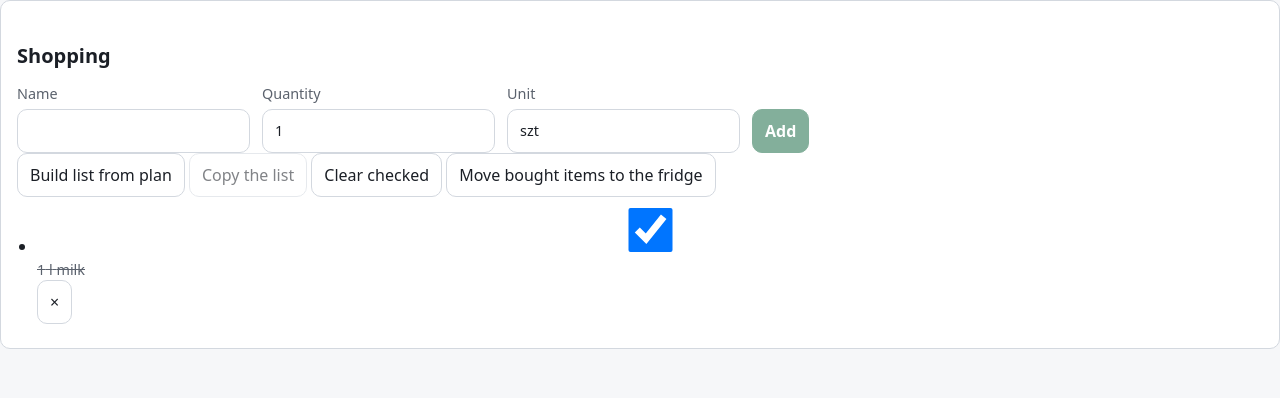
ShoppingView › alerts when moving fails
Click the button "Move bought items to the fridge": (581, 175) [446,153,716,197]
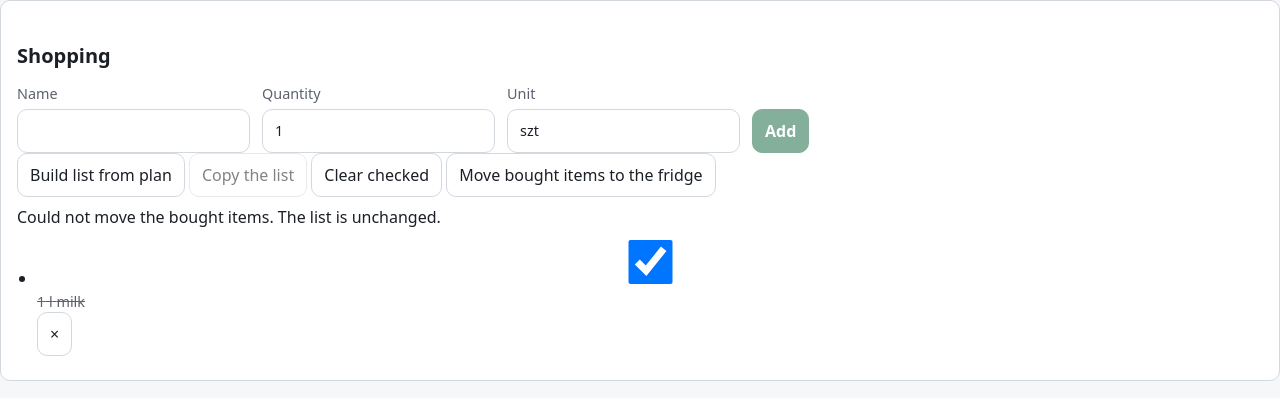
Check: the text "1 l milk" is shown, box [37,237,1263,312]
Check: the message reads "Could not move the bought items. The list is unchanged.", box [17,206,441,228]
